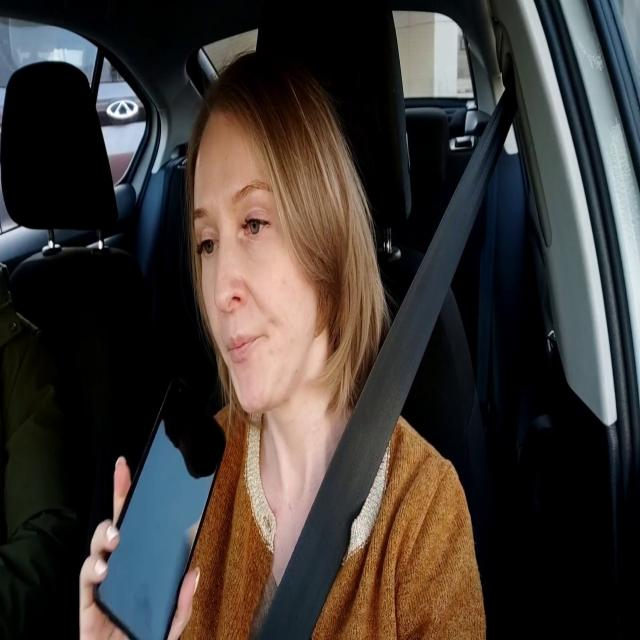phone: (92, 375, 228, 640)
